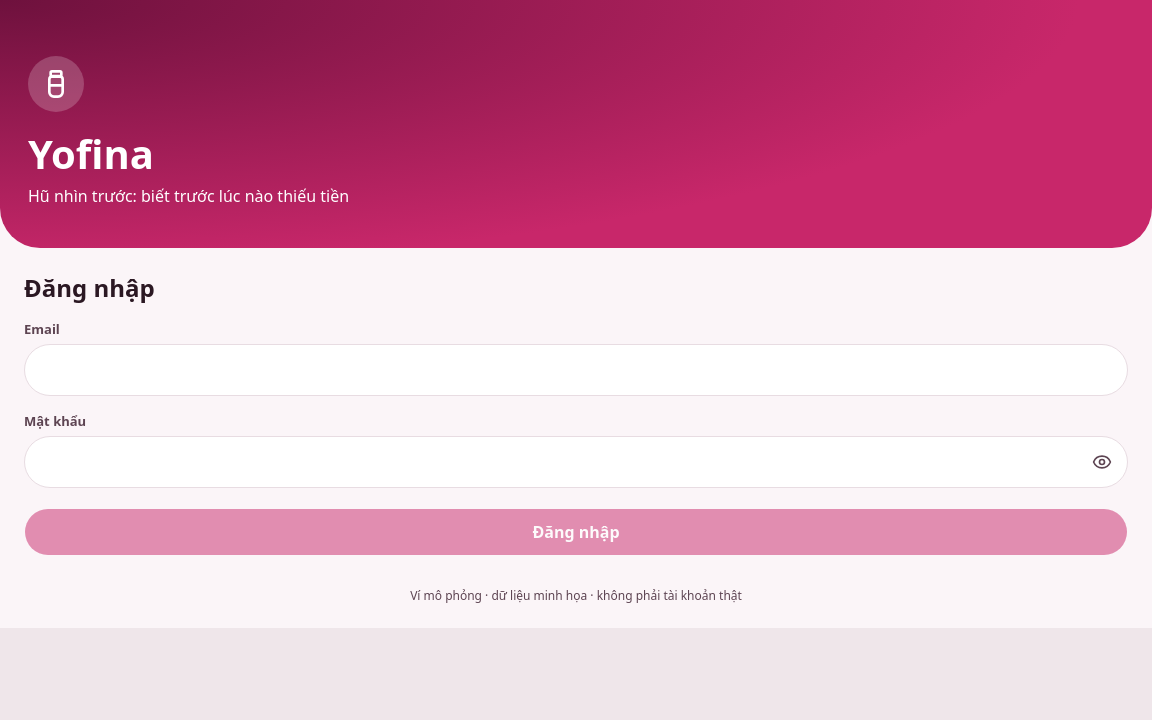
it: màn Đăng nhập › sai mật khẩu: hiện lỗi tiếng Việt, ở lại trang, bấm lại được
The width and height of the screenshot is (1152, 720).
Type "a@example.invalid" into the field labelled "Email". click: (576, 370)
box: [24,344,1128,396]
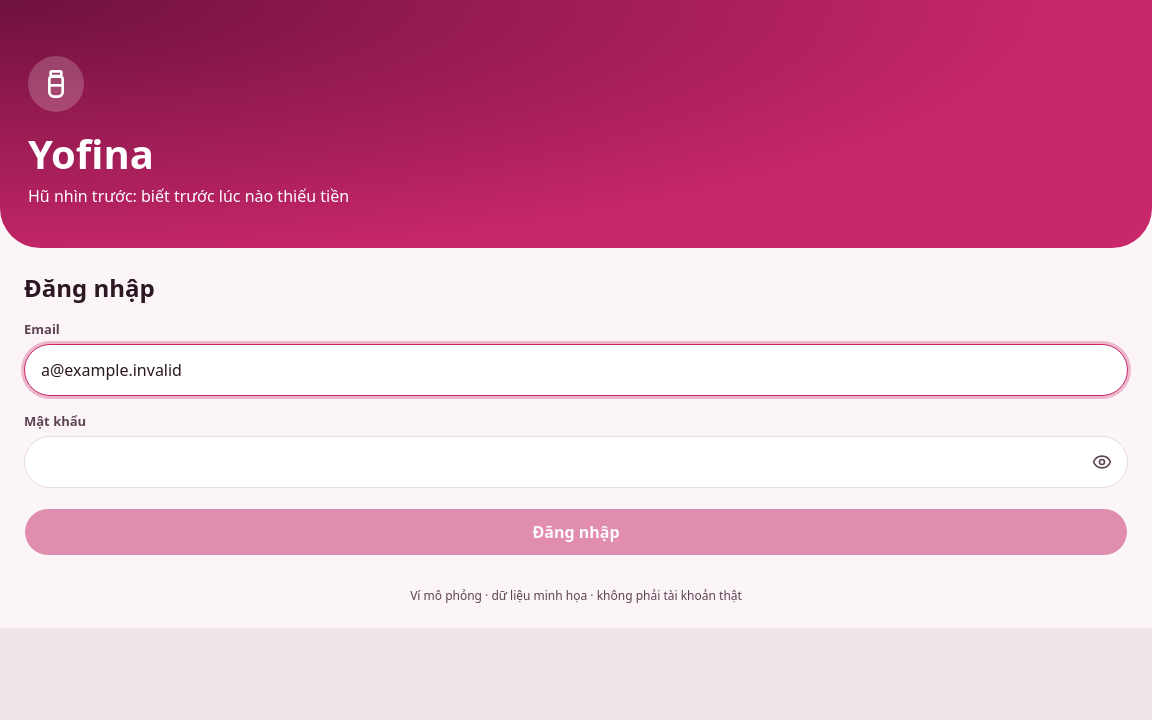
Type "sai-mat-khau" into the password field labelled "Mật khẩu". click: (576, 462)
box: [24,436,1128,488]
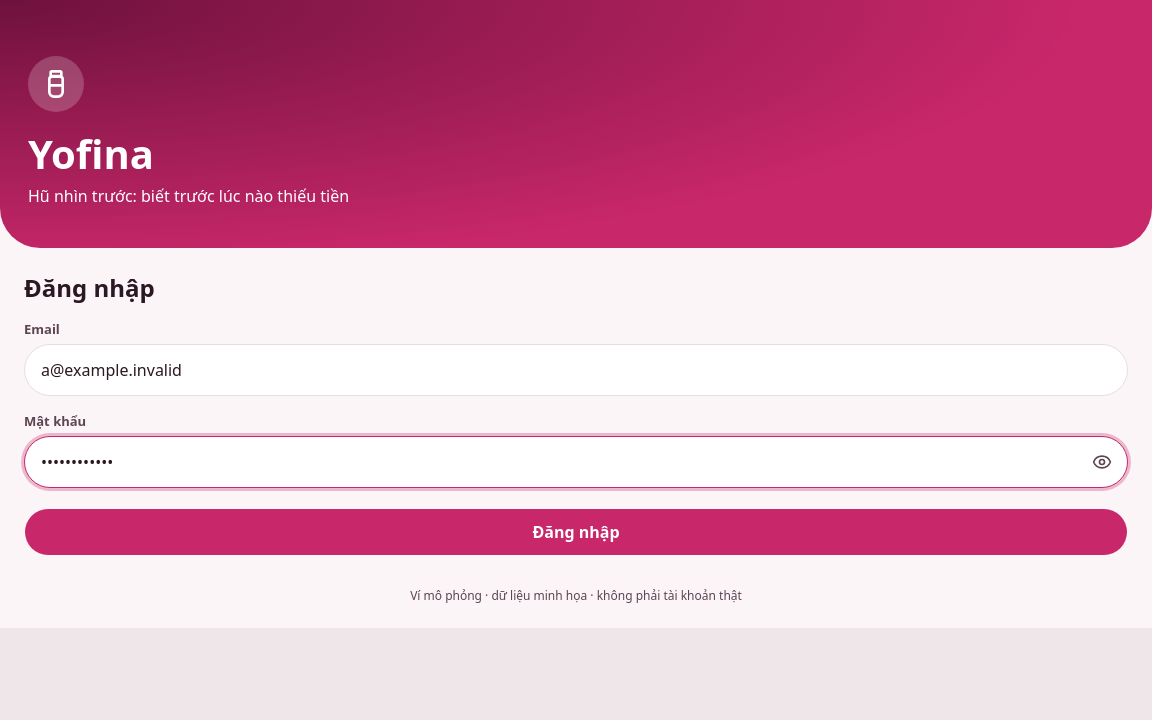
Click the button "Đăng nhập". click: (576, 532)
box: [24,508,1128,556]
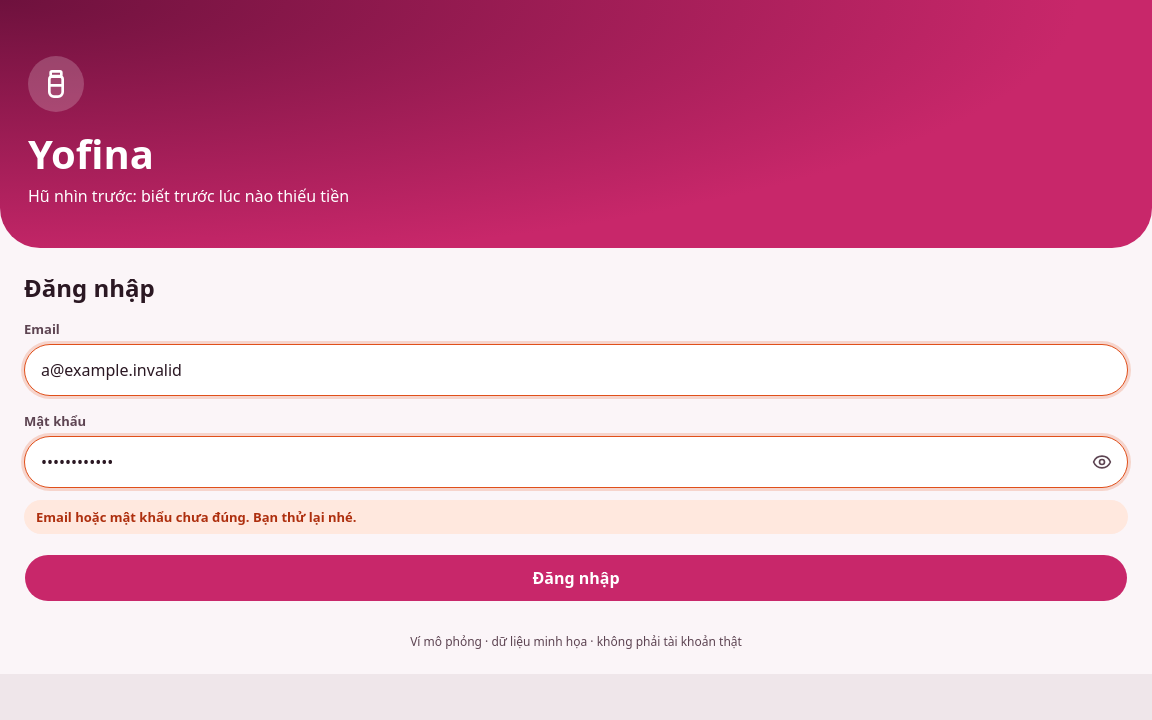
Result: the button "Đăng nhập" is enabled at [24,554,1128,602]
Result: the message shows "Email hoặc mật khẩu chưa đúng" at [36,508,356,526]
